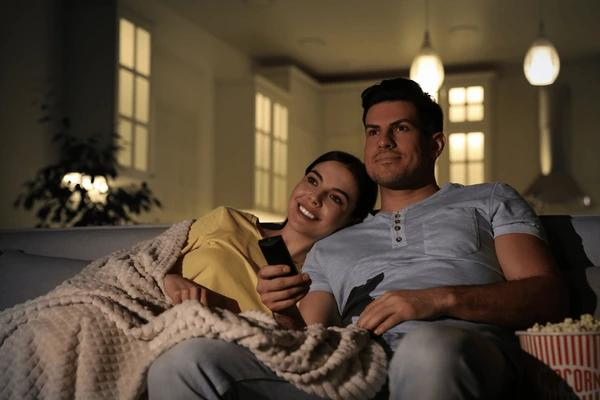blanket: (0, 212, 391, 400)
short sleeve shirt: (301, 181, 546, 334), (177, 200, 299, 328)
trousers: (141, 322, 496, 400)
